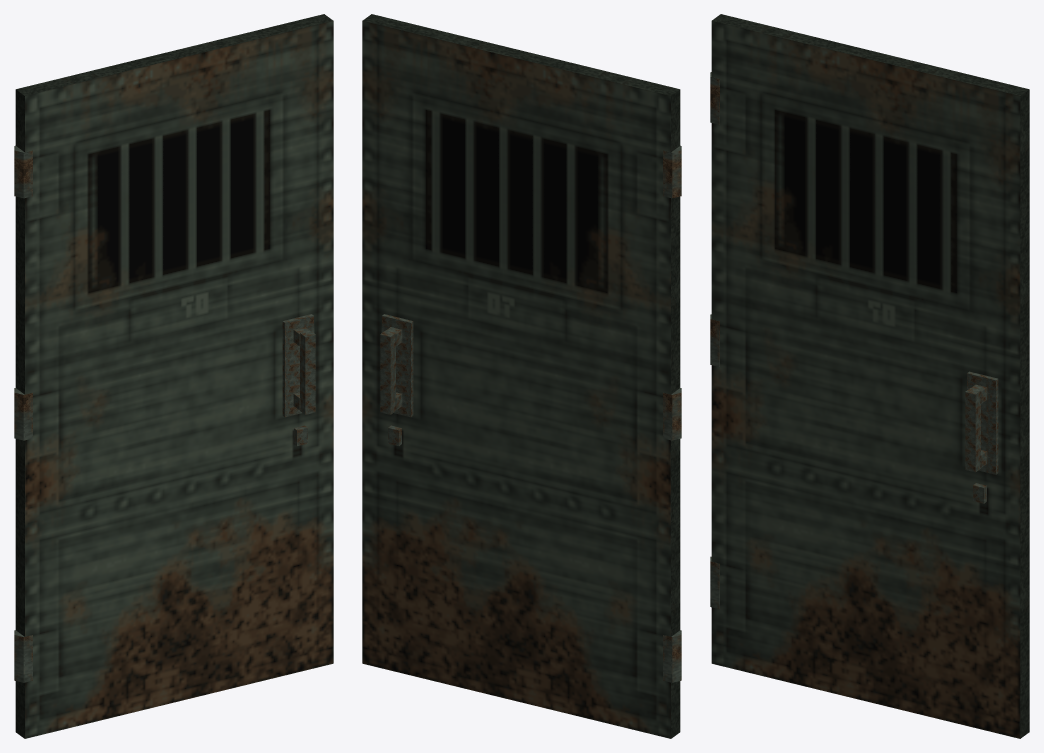
File: SM_Door_Cell.fbx
3 renders of one model, left to right at view 1: azimuth 30°, elevation 25°; view 2: azimuth 150°, elevation 25°; view 3: azimuth 330°, elevation 25°, orthographic.
Visible parts, largest first — view 1: SM_Door_Cell; view 2: SM_Door_Cell; view 3: SM_Door_Cell.
Part boxes in pixels (x1=…): SM_Door_Cell: x1=14, y1=14, x2=333, y2=738; SM_Door_Cell: x1=362, y1=14, x2=681, y2=738; SM_Door_Cell: x1=710, y1=14, x2=1029, y2=738.
Size of the model in its own units: 1.08 by 2.11 by 0.215.
